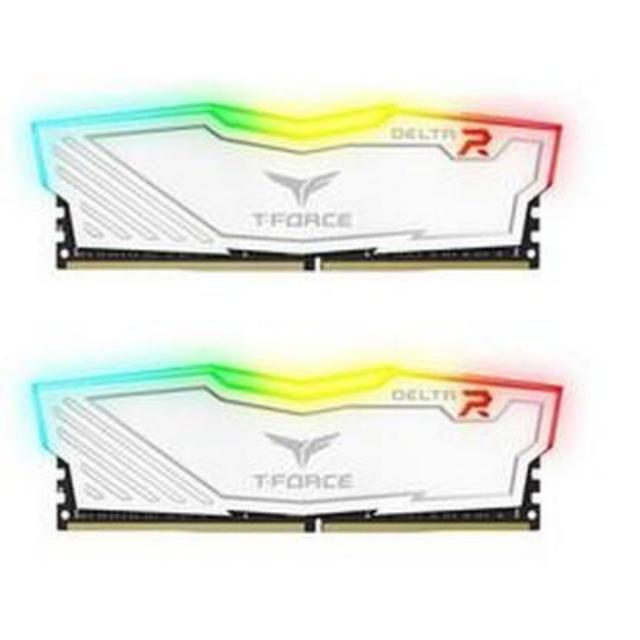RAM: (10, 351, 565, 557), (14, 85, 568, 286)
